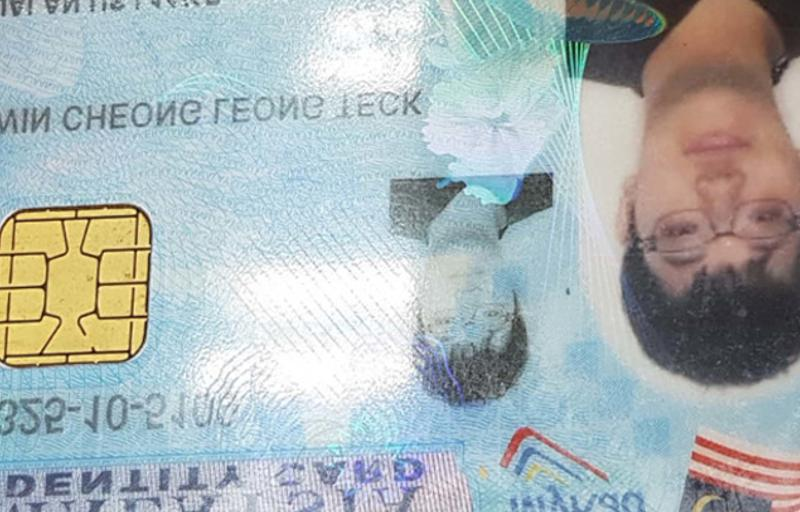hologramB: (421, 2, 564, 172)
